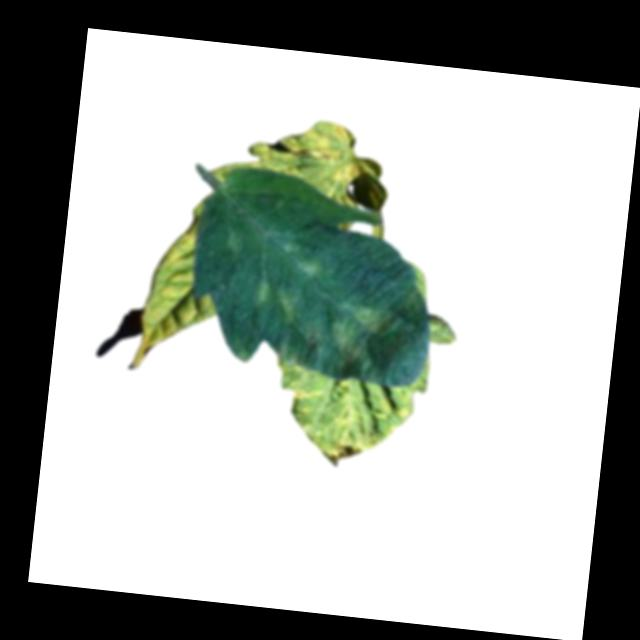Leaf_Mold: (138, 217, 226, 371), (282, 386, 415, 468), (285, 117, 374, 187), (326, 300, 408, 371)
